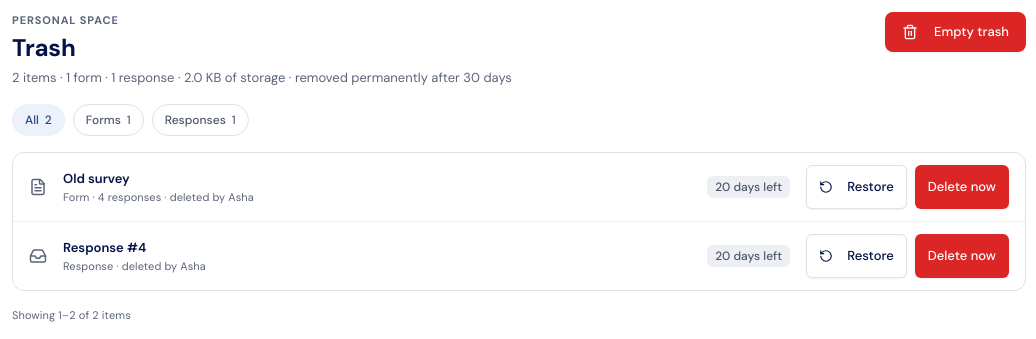
Test: TrashView › shows chip counts and filters by type
expect the text "Old survey" is shown: met, box [63,170,130,187]
Click the button "Responses 1" at (200, 120), box [152,104,249,136]
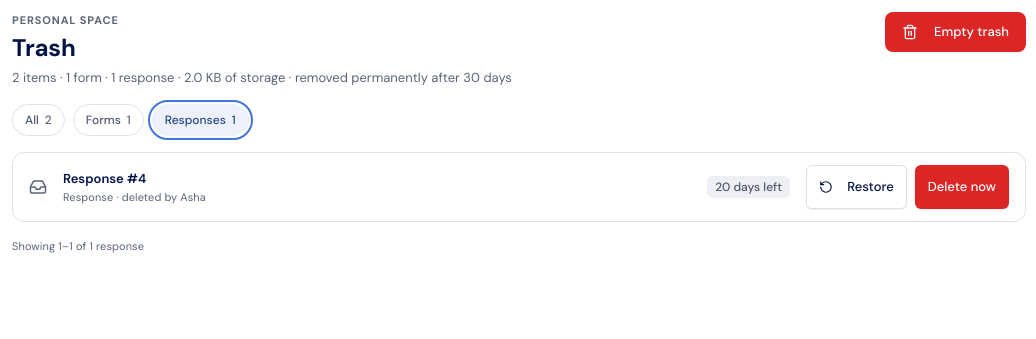
expect the text "Response #4" is shown: met, box [63,170,146,187]
expect the text "Old survey" is gone: met
